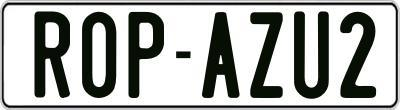0: (79, 11, 114, 97)
2: (338, 12, 375, 102)
A: (202, 10, 243, 102)
P: (128, 10, 168, 99)
R: (34, 8, 71, 101)
U: (291, 9, 330, 98)
Z: (247, 12, 281, 98)
